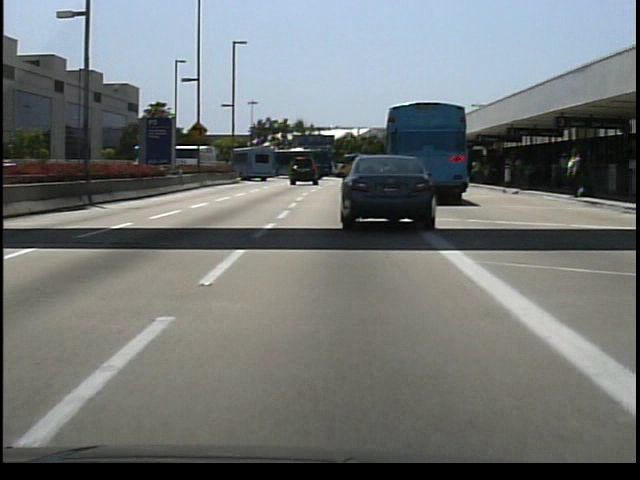person: (562, 148, 585, 201)
